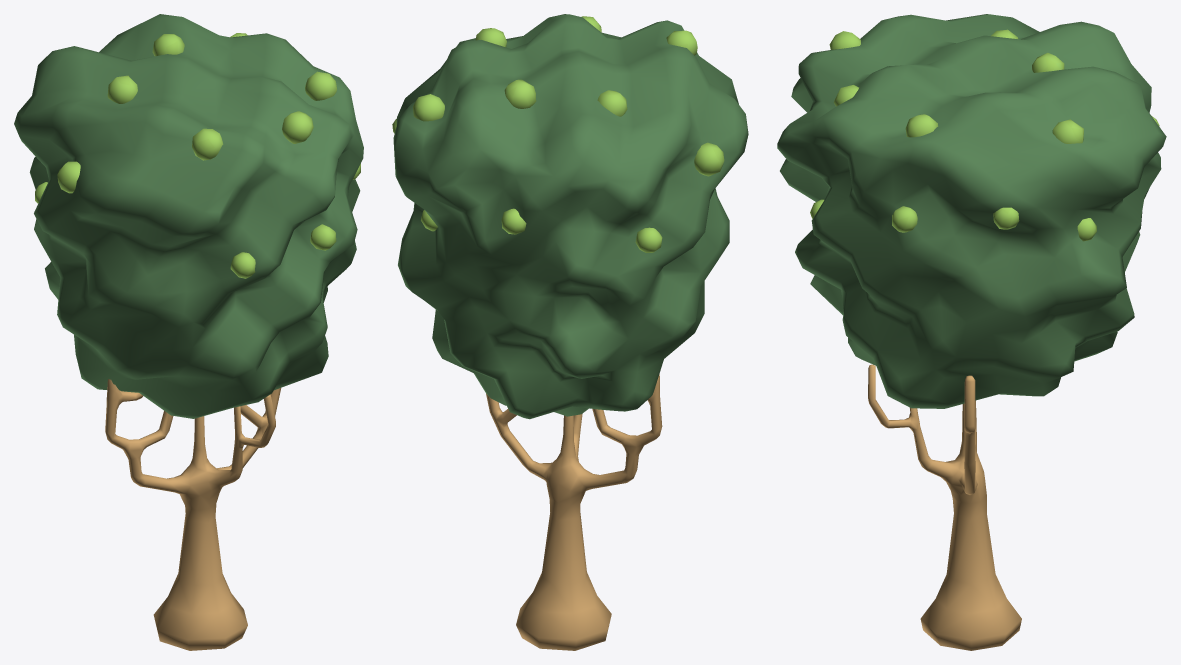
The model's file is tree_10.gltf.
The picture shows the model from 3 angles, left to right: view 1: azimuth 30°, elevation 25°; view 2: azimuth 150°, elevation 25°; view 3: azimuth 270°, elevation 25°; orthographic projection.
Visible parts, largest first — view 1: tree_10; view 2: tree_10; view 3: tree_10.
Part boxes in pixels (x1,y1,x2,y2): tree_10: (14, 14, 363, 650); tree_10: (392, 14, 748, 650); tree_10: (777, 14, 1166, 650).
Bounding box in the file's own units: 1.95 × 3.62 × 2.17.
1 material, 1 textured.
